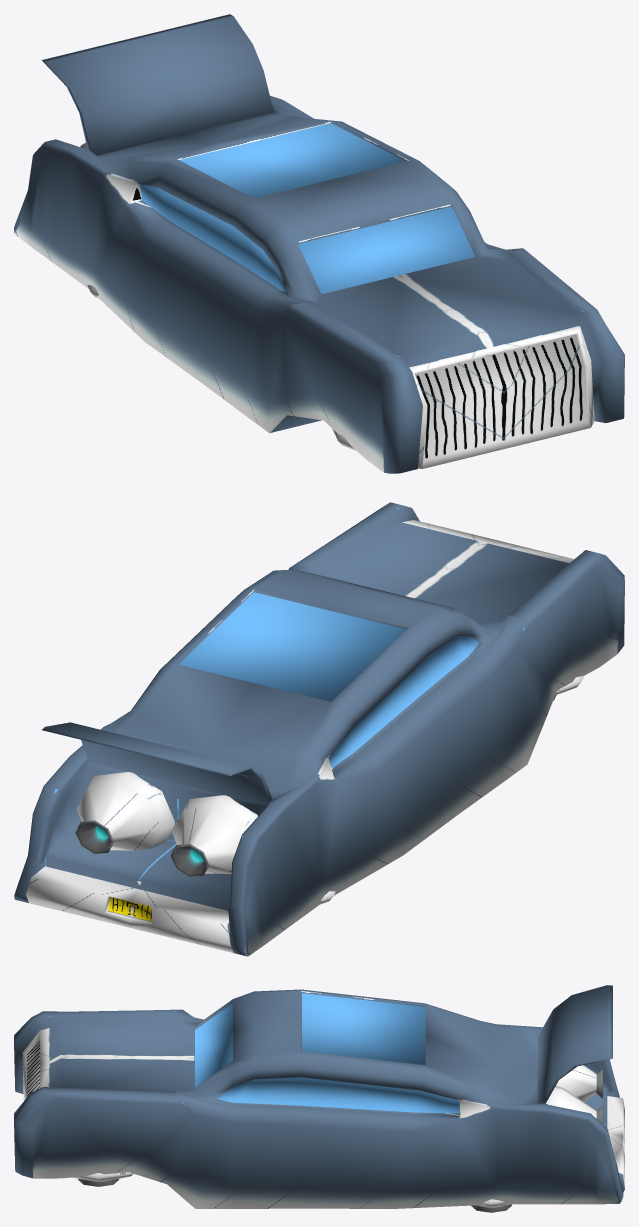
The model's file is car.fbx.
The picture shows the model from 3 angles, top to bottom: view 1: azimuth 30°, elevation 25°; view 2: azimuth 150°, elevation 25°; view 3: azimuth 270°, elevation 25°; orthographic projection. The views are drawn at different scales.
Parts seen in each view (by area): view 1: Cube; view 2: Cube; view 3: Cube.
Boxes of the visible parts, box(x1,y1,x2,y2) form: Cube: box(14, 14, 624, 473); Cube: box(14, 502, 624, 956); Cube: box(14, 985, 624, 1212).
Bounding box in the file's own units: 3.31 × 2.4 × 8.55.
